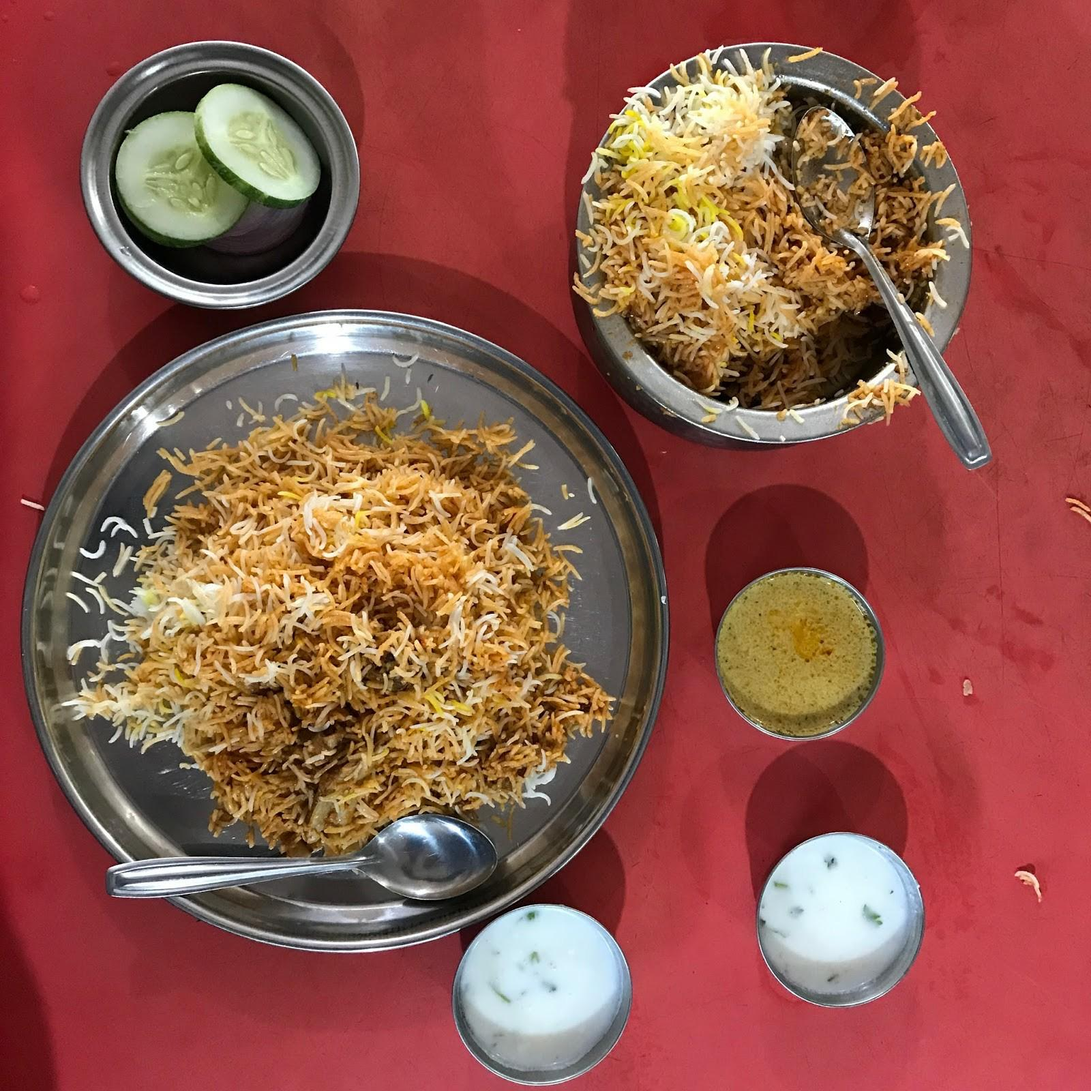Biryani: (87, 378, 625, 881), (578, 61, 969, 422)
